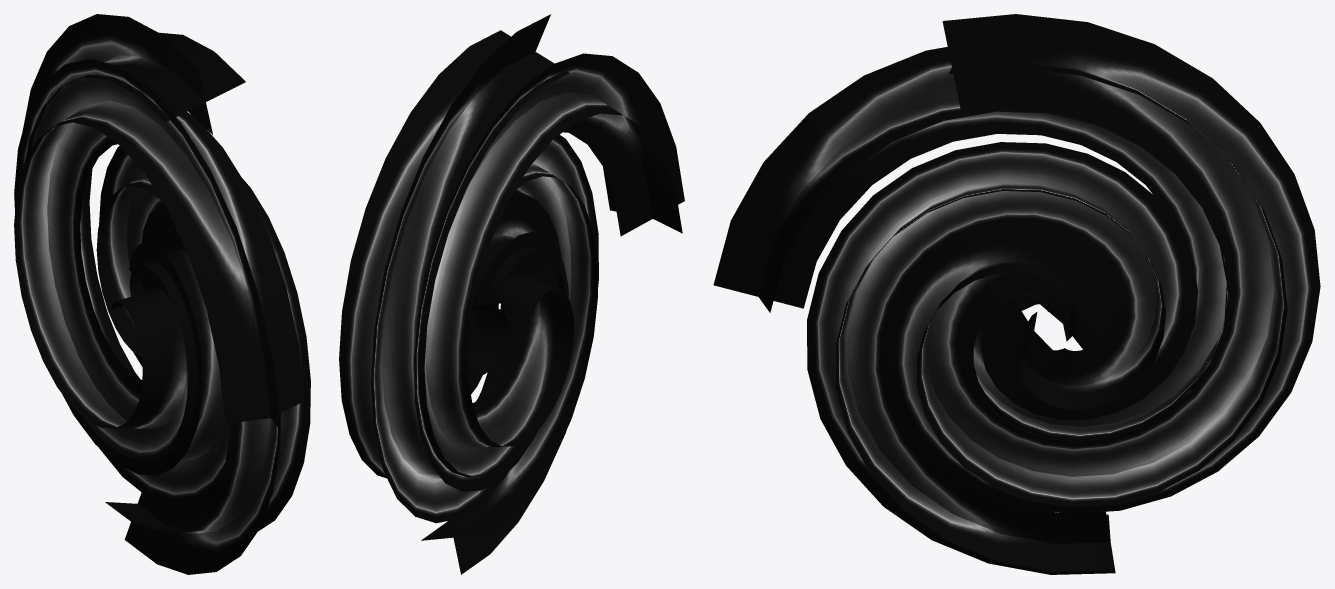
File: loft_5.FBX
3 renders of one model, left to right at view 1: azimuth 30°, elevation 25°; view 2: azimuth 150°, elevation 25°; view 3: azimuth 270°, elevation 25°, orthographic. The views are drawn at different scales.
Visible parts, largest first — view 1: Loft_5; view 2: Loft_5; view 3: Loft_5.
Boxes of the visible parts, <box> form: Loft_5: <box>14,14,310,574</box>; Loft_5: <box>339,14,684,574</box>; Loft_5: <box>713,14,1320,574</box>.
Bounding box in the file's own units: 0.6553 × 2.52 × 2.55.
